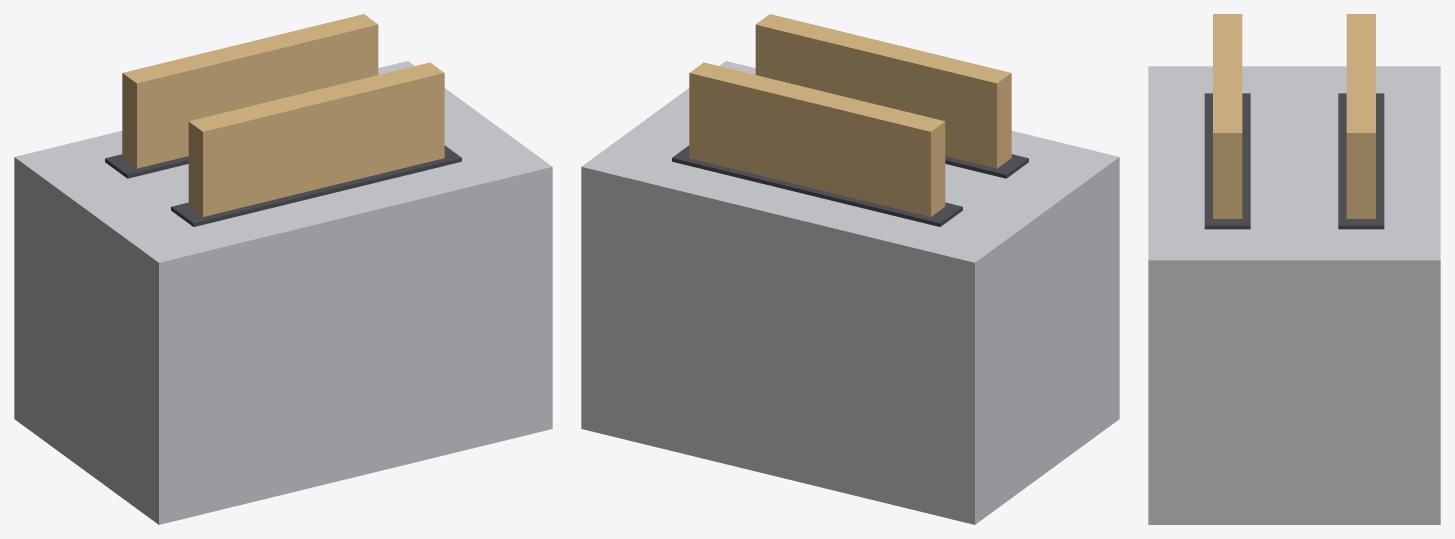
The model's file is giant_toaster.glb.
3 renders of one model, left to right at view 1: azimuth 30°, elevation 25°; view 2: azimuth 150°, elevation 25°; view 3: azimuth 270°, elevation 25°, orthographic.
Visible parts, largest first — view 1: Cube, Cube.002, Cube.004, Cube.001, Cube.003; view 2: Cube, Cube.004, Cube.002, Cube.003, Cube.001; view 3: Cube, Cube.002, Cube.004, Cube.001, Cube.003.
Boxes of the visible parts, box(x1,y1,x2,y2) form: Cube: box(14, 61, 552, 524); Cube.002: box(188, 62, 444, 216); Cube.004: box(122, 14, 378, 168); Cube.001: box(171, 145, 461, 226); Cube.003: box(105, 154, 188, 178); Cube: box(581, 61, 1119, 524); Cube.004: box(689, 62, 945, 216); Cube.002: box(755, 14, 1011, 168); Cube.003: box(672, 145, 962, 226); Cube.001: box(945, 154, 1028, 178); Cube: box(1148, 66, 1440, 524); Cube.002: box(1213, 14, 1242, 218); Cube.004: box(1346, 14, 1375, 218); Cube.001: box(1204, 93, 1250, 229); Cube.003: box(1338, 93, 1384, 229).
Bounding box in the file's own units: 2.2 × 1.87 × 1.4.
